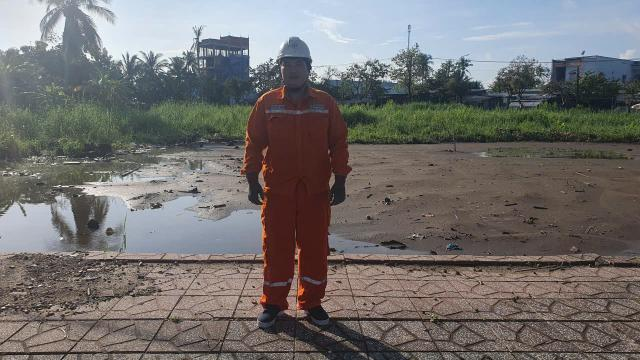gloves: (240, 169, 267, 207), (329, 170, 353, 208)
helmet: (276, 33, 317, 62)
shoes: (299, 299, 333, 324), (254, 300, 283, 328)
